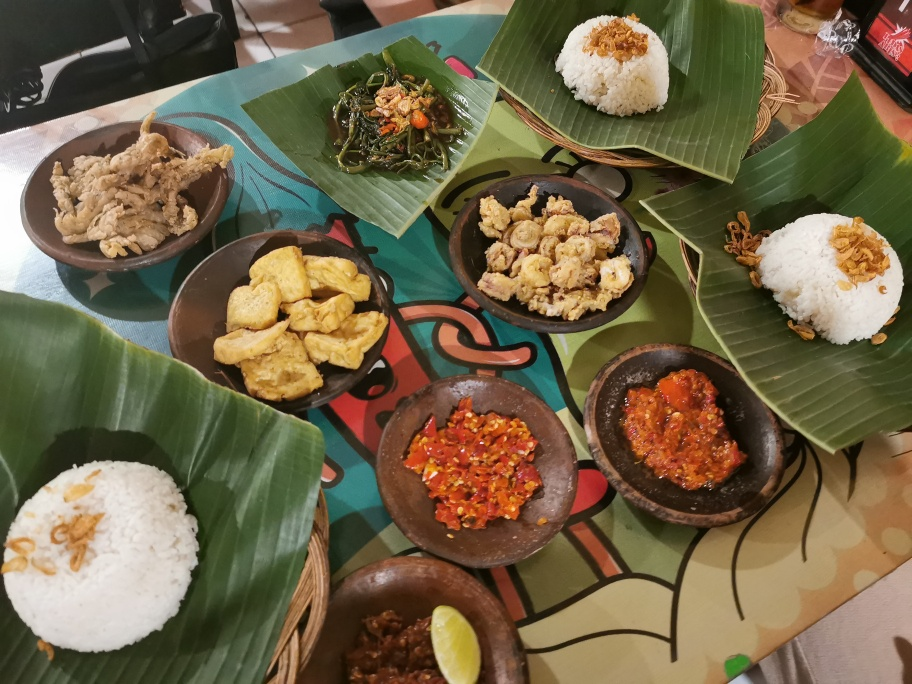nasi putih: (1, 455, 198, 652), (759, 211, 903, 343), (557, 15, 670, 113)
